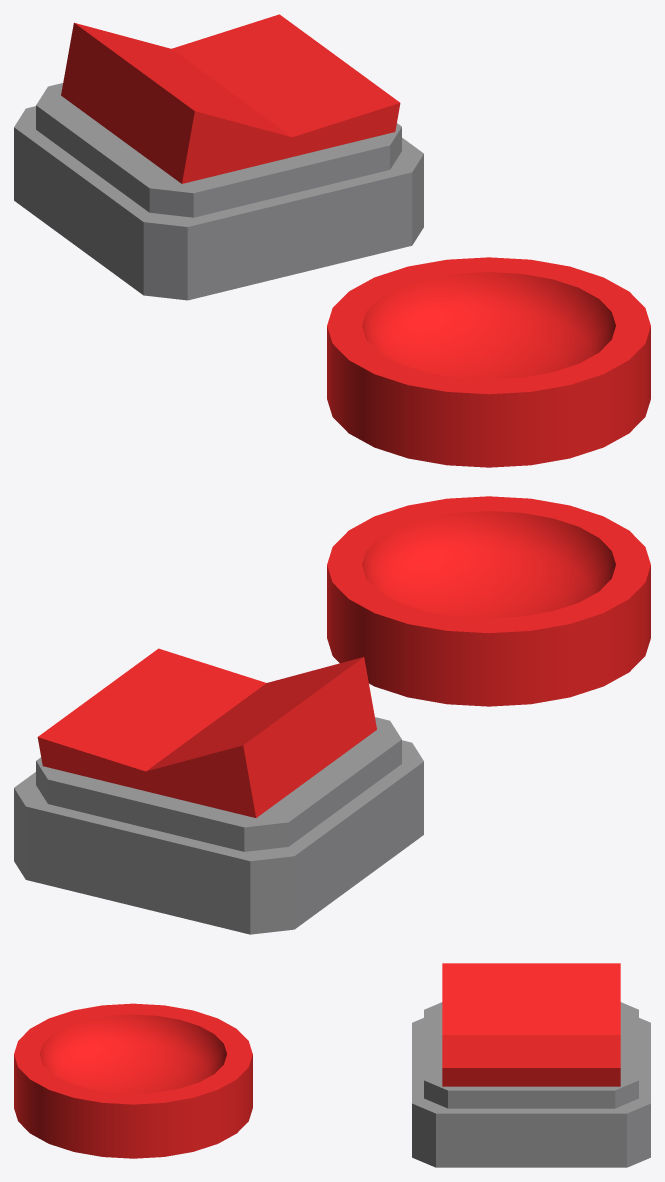
The model's file is Switch.obj.
3 renders of one model, top to bottom at view 1: azimuth 30°, elevation 25°; view 2: azimuth 150°, elevation 25°; view 3: azimuth 270°, elevation 25°, orthographic. The views are drawn at different scales.
Parts seen in each view (by area): view 1: Output, Handle, Button; view 2: Output, Handle, Button; view 3: Output, Handle, Button.
Boxes of the visible parts, x1,y1,x2,y2 form: Output: (327,257,650,467); Handle: (14,83,423,300); Button: (61,14,400,183); Output: (327,496,650,706); Handle: (14,717,423,934); Button: (37,648,376,817); Output: (14,1003,252,1158); Handle: (412,1002,650,1167); Button: (442,963,620,1086).
Size of the model in its own units: 0.6 by 0.3424 by 1.6.
